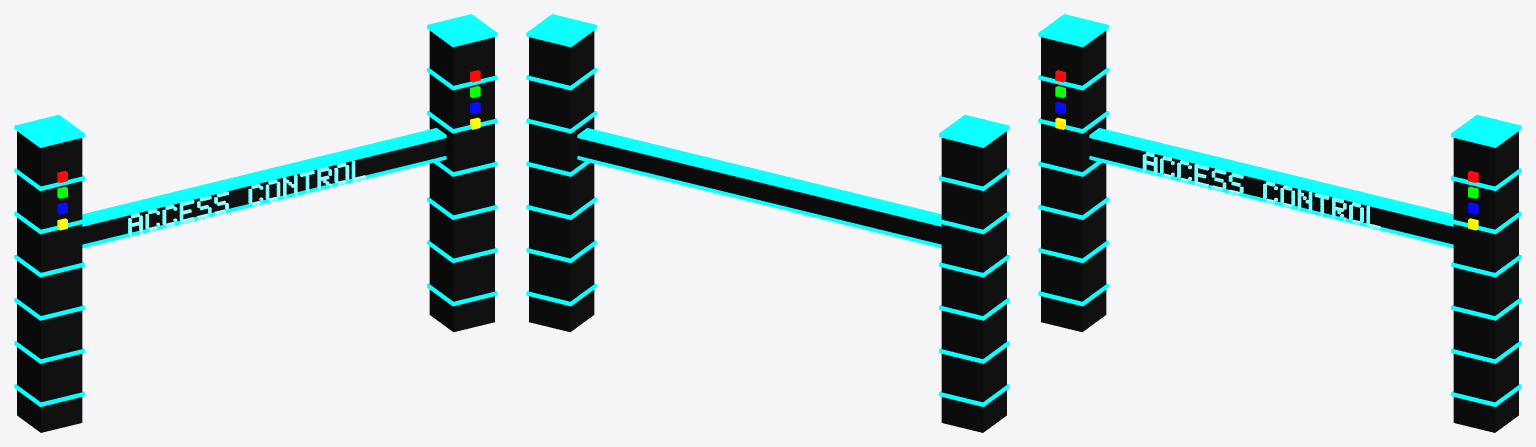
Rendered from gate.glb.
The picture shows the model from 3 angles, left to right: view 1: azimuth 30°, elevation 25°; view 2: azimuth 150°, elevation 25°; view 3: azimuth 330°, elevation 25°; orthographic projection.
Visible parts, largest first — view 1: object 1, object 2, SecurityBar, object 16, object 15; view 2: object 1, object 2, SecurityBar, object 16, object 15; view 3: object 2, object 1, SecurityBar, object 15, object 16.
Part boxes in pixels (box(x1,y1,x2,y2)): object 1: box(17, 131, 82, 432); object 2: box(429, 31, 494, 332); SecurityBar: box(82, 128, 446, 248); object 16: box(427, 14, 497, 47); object 15: box(14, 115, 84, 147); object 1: box(941, 131, 1006, 432); object 2: box(529, 31, 594, 332); SecurityBar: box(577, 128, 941, 248); object 16: box(526, 14, 596, 47); object 15: box(939, 115, 1009, 147); object 2: box(1453, 131, 1518, 432); object 1: box(1041, 31, 1106, 332); SecurityBar: box(1089, 128, 1453, 248); object 15: box(1038, 14, 1108, 47); object 16: box(1451, 115, 1521, 147).
Size of the model in its own units: 6.65 by 4.03 by 0.685.
